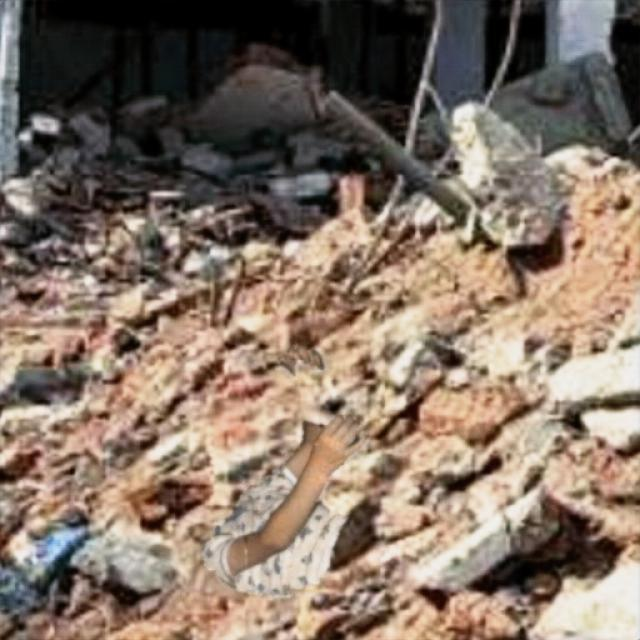Person in Rubble: (202, 348, 368, 596)
